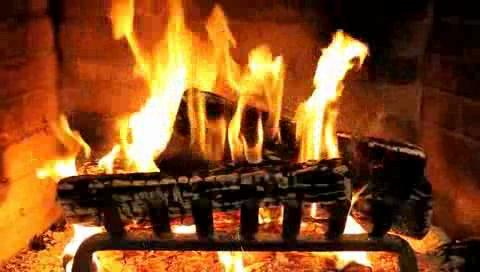fire: (106, 3, 363, 188)
